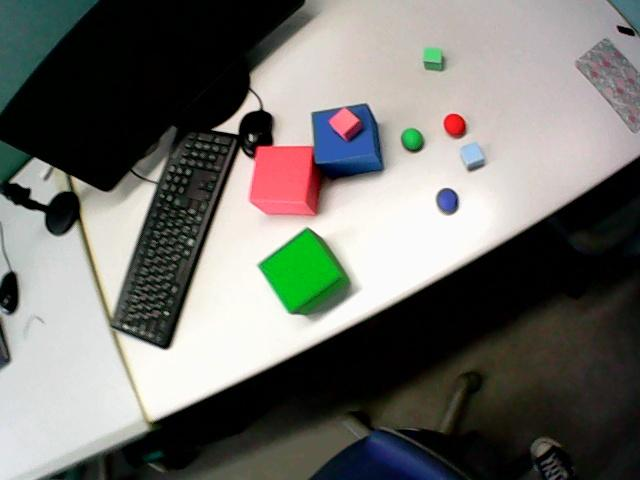blue_block: (312, 104, 383, 177), (610, 0, 639, 31), (460, 142, 485, 170)
red_block: (250, 146, 320, 214), (329, 107, 362, 140)
